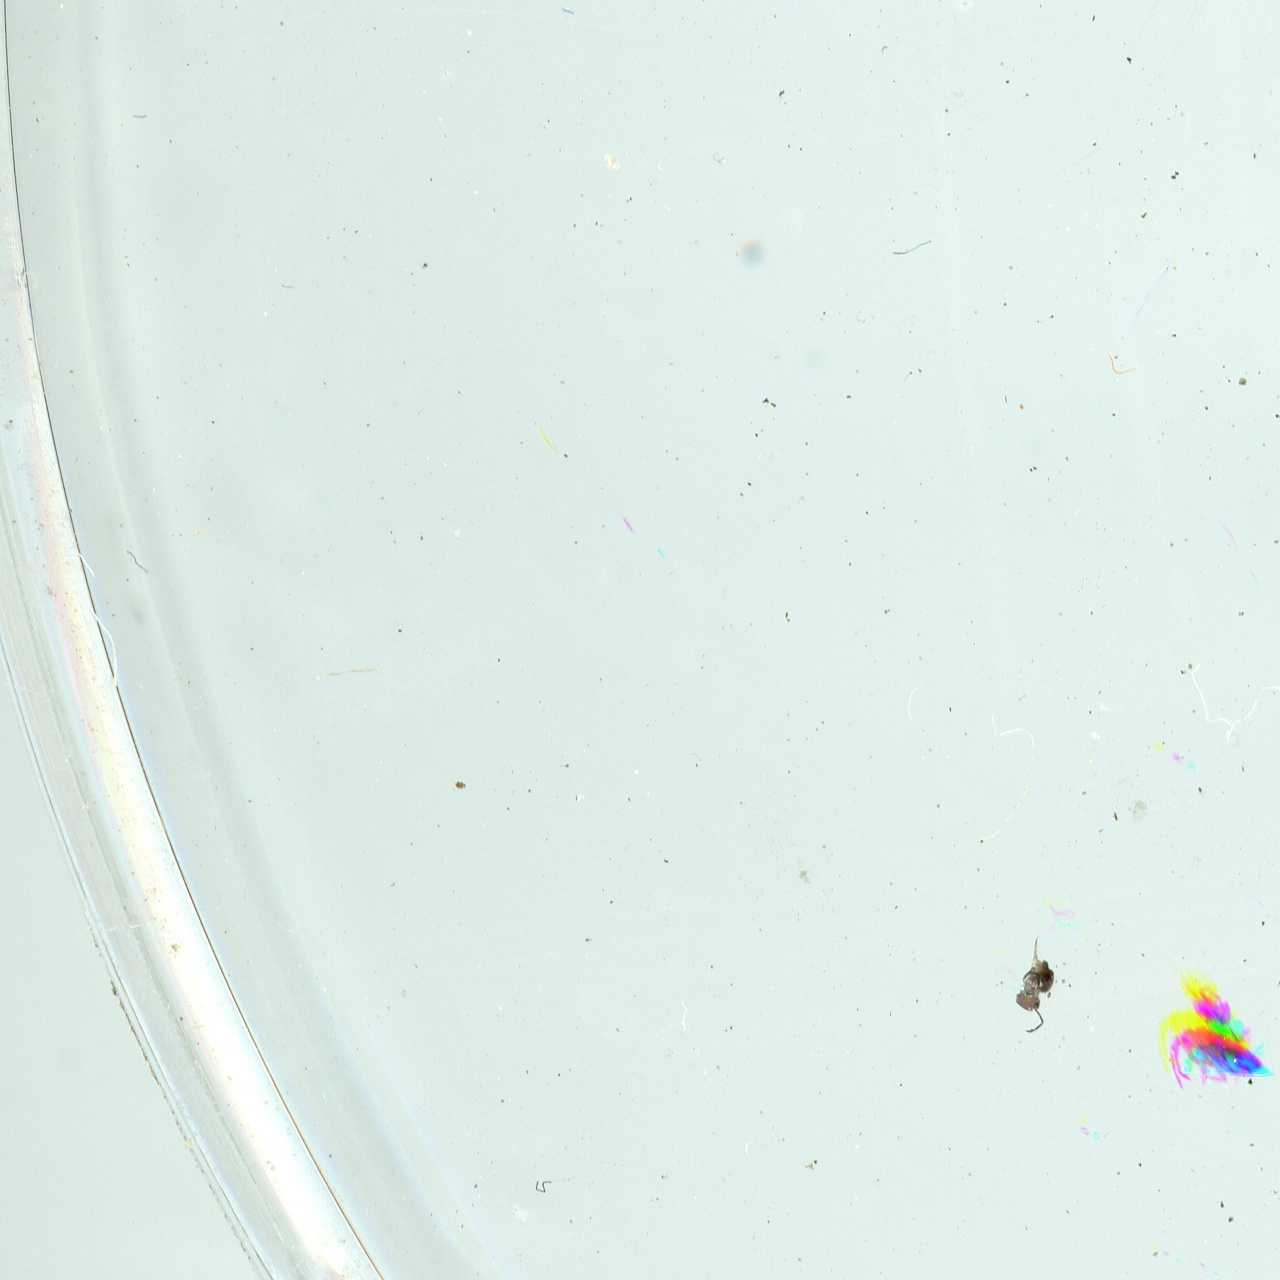arthropod: (1164, 1021, 1270, 1091), (1013, 935, 1057, 1033), (1185, 976, 1239, 1024)
